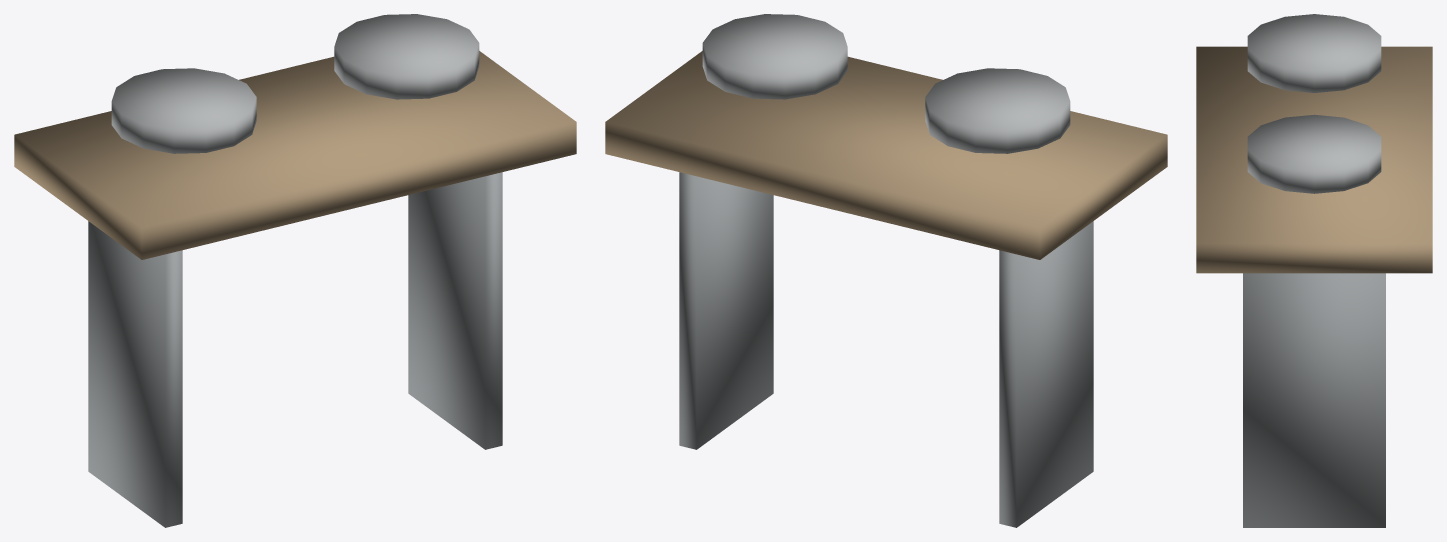
Rendered from projection_rewind_bench__compact.glb.
The picture shows the model from 3 angles, left to right: view 1: azimuth 30°, elevation 25°; view 2: azimuth 150°, elevation 25°; view 3: azimuth 270°, elevation 25°; orthographic projection. The views are drawn at different scales.
Visible parts, largest first — view 1: world; view 2: world; view 3: world.
Part boxes in pixels (x1,y1,x2,y2): world: (14, 14, 576, 527); world: (605, 14, 1167, 527); world: (1196, 14, 1432, 527).
Bounding box in the file's own units: 1.05 × 0.8928 × 0.5332.
